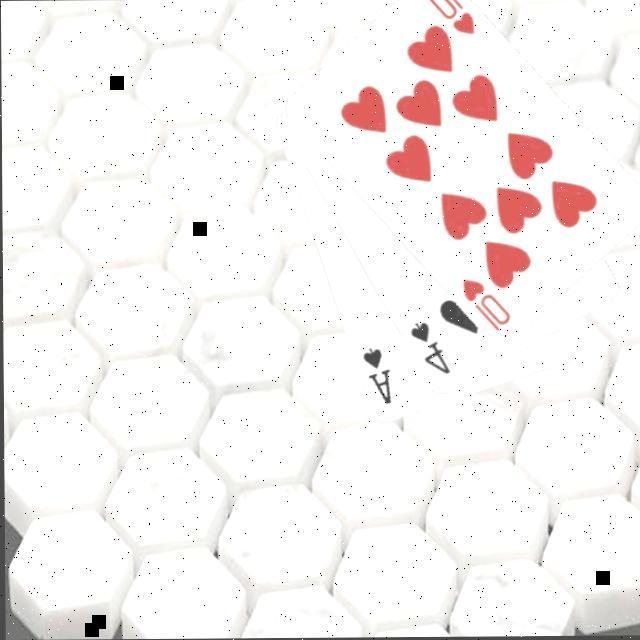10H: (460, 274, 514, 334), (424, 0, 478, 38)
4S: (407, 318, 453, 377)
AS: (359, 343, 394, 408)
